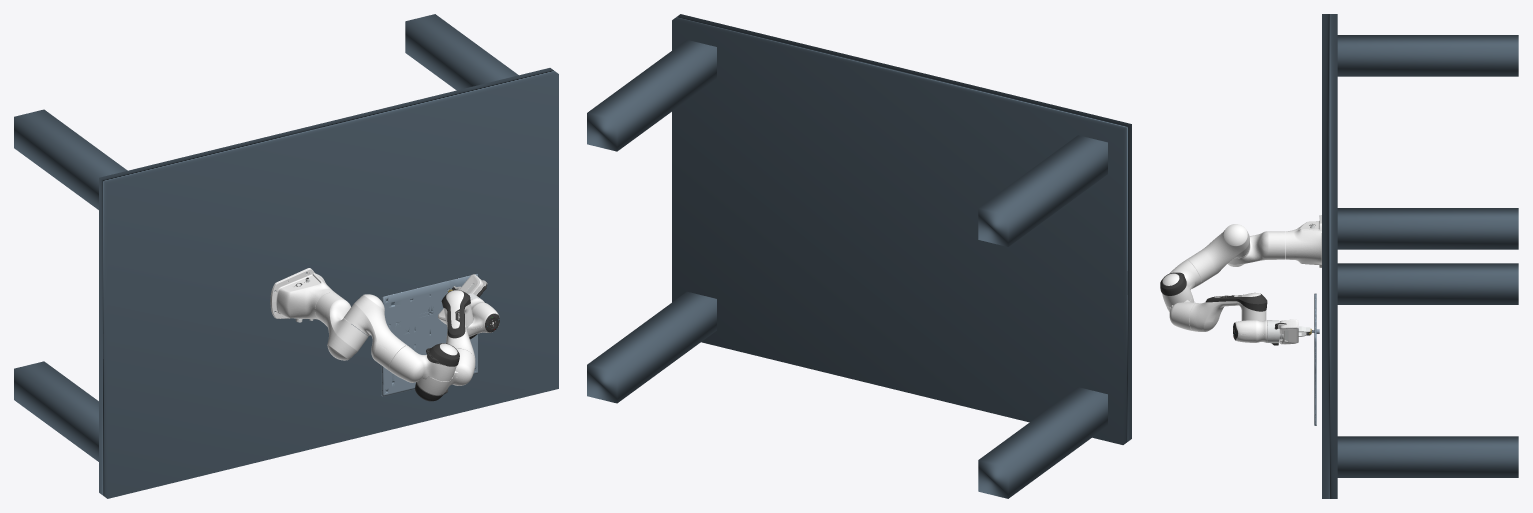
3 views of the same model, side by side, from view 1: azimuth 30°, elevation 25°; view 2: azimuth 150°, elevation 25°; view 3: azimuth 270°, elevation 25° (orthographic). The views are drawn at different scales.
Parts seen in each view (by area): view 1: workbench_0, workbench_2, workbench_1, workbench_4, plate_native_mesh, panda_link0_Part__Feature019_001-mesh, panda_link2_Part__Feature024-mesh, panda_link1_Part__Feature_001-mesh, panda_link3_Part__Feature003_003-mesh, panda_link4_Part__Feature003_002-mesh, panda_link5_Part__Feature_004-mesh, panda_link6_Shell012_000-mesh (+1 smaller); view 2: workbench_0, workbench_2, workbench_3, workbench_1, workbench_4; view 3: workbench_0, workbench_1, workbench_2, workbench_3, workbench_4, panda_link2_Part__Feature024-mesh, panda_link0_Part__Feature019_001-mesh, panda_link5_Part__Feature_004-mesh, panda_link1_Part__Feature_001-mesh, panda_link3_Part__Feature003_003-mesh, panda_link6_Shell012_000-mesh, panda_link4_Part__Feature003_002-mesh (+3 smaller).
Boxes of the visible parts, x1=… form: workbench_0: x1=99, y1=68, x2=558, y2=498; workbench_2: x1=14, y1=109, x2=127, y2=209; workbench_1: x1=14, y1=361, x2=98, y2=461; workbench_4: x1=405, y1=14, x2=518, y2=90; plate_native_mesh: x1=381, y1=273, x2=477, y2=396; panda_link0_Part__Feature019_001-mesh: x1=270, y1=268, x2=336, y2=319; panda_link2_Part__Feature024-mesh: x1=344, y1=294, x2=407, y2=370; panda_link1_Part__Feature_001-mesh: x1=315, y1=292, x2=368, y2=360; panda_link3_Part__Feature003_003-mesh: x1=389, y1=343, x2=457, y2=382; panda_link4_Part__Feature003_002-mesh: x1=417, y1=349, x2=475, y2=395; panda_link5_Part__Feature_004-mesh: x1=443, y1=290, x2=475, y2=359; panda_link6_Shell012_000-mesh: x1=467, y1=298, x2=499, y2=336; workbench_0: x1=672, y1=14, x2=1131, y2=444; workbench_2: x1=978, y1=135, x2=1107, y2=246; workbench_3: x1=587, y1=291, x2=716, y2=403; workbench_1: x1=978, y1=387, x2=1107, y2=498; workbench_4: x1=587, y1=40, x2=716, y2=151; workbench_0: x1=1322, y1=14, x2=1337, y2=498; workbench_1: x1=1337, y1=263, x2=1518, y2=304; workbench_2: x1=1337, y1=35, x2=1518, y2=76; workbench_3: x1=1337, y1=436, x2=1518, y2=477; workbench_4: x1=1337, y1=208, x2=1518, y2=249; panda_link2_Part__Feature024-mesh: x1=1187, y1=224, x2=1249, y2=283; panda_link0_Part__Feature019_001-mesh: x1=1285, y1=215, x2=1321, y2=267; panda_link5_Part__Feature_004-mesh: x1=1189, y1=292, x2=1266, y2=331; panda_link1_Part__Feature_001-mesh: x1=1227, y1=231, x2=1285, y2=266; panda_link3_Part__Feature003_003-mesh: x1=1162, y1=259, x2=1201, y2=307; panda_link6_Shell012_000-mesh: x1=1235, y1=320, x2=1267, y2=342; panda_link4_Part__Feature003_002-mesh: x1=1166, y1=295, x2=1197, y2=330.
Size of the model in its own units: 1.82 by 1.22 by 1.38.
